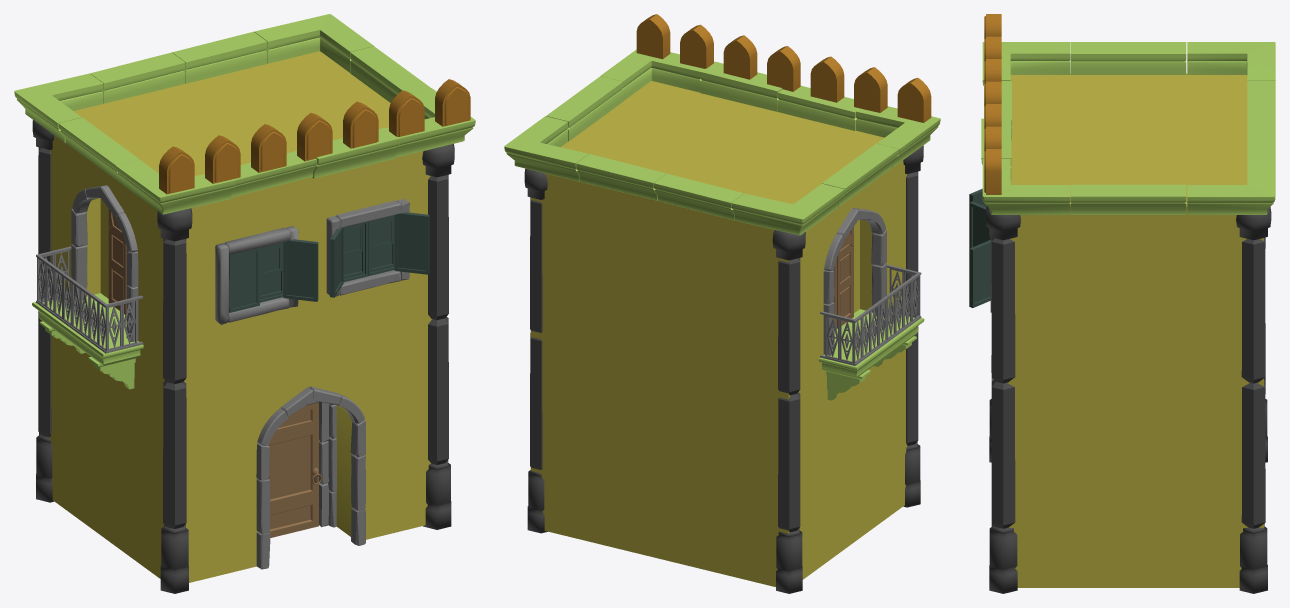
Rendered from SM_building_india_04.fbx.
3 renders of one model, left to right at view 1: azimuth 30°, elevation 25°; view 2: azimuth 150°, elevation 25°; view 3: azimuth 270°, elevation 25°, orthographic. The views are drawn at different scales.
Parts seen in each view (by area): view 1: Object32672; view 2: Object32672; view 3: Object32672.
Boxes of the visible parts, x1,y1,x2,y2 form: Object32672: (14, 14, 475, 593); Object32672: (504, 14, 940, 593); Object32672: (969, 14, 1275, 593).
Bounding box in the file's own units: 267 × 335 × 210.
